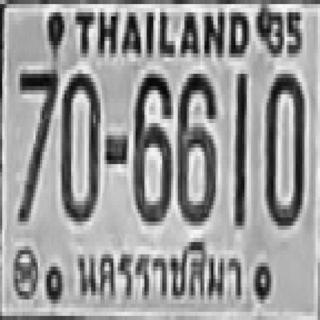N00: (264, 70, 302, 226), (60, 70, 98, 217)
N01: (233, 70, 244, 222)
N06: (132, 70, 170, 222), (176, 70, 213, 222)
N07: (17, 66, 57, 217)
P30: (72, 236, 248, 310)
